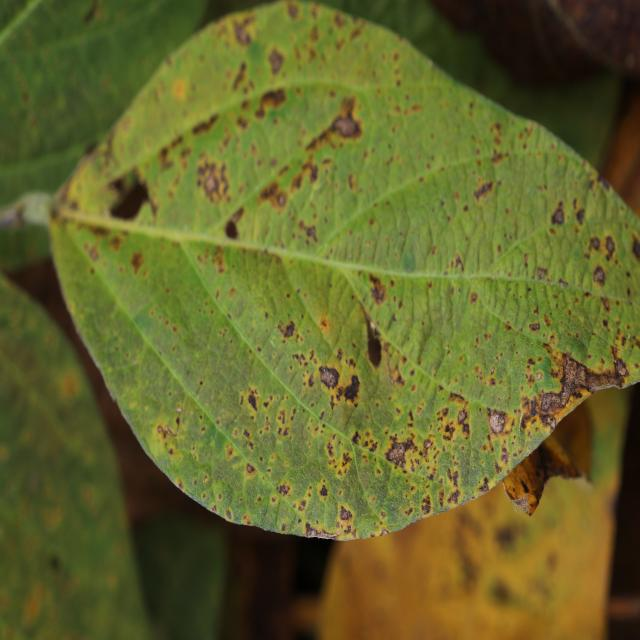Bacterial_Blight: (386, 411, 443, 483), (314, 100, 366, 165), (535, 355, 587, 414), (315, 357, 363, 412), (154, 128, 199, 176), (323, 429, 357, 479), (586, 231, 620, 273), (471, 354, 504, 390), (253, 87, 287, 119), (156, 406, 184, 443), (238, 384, 263, 424), (257, 179, 288, 210), (273, 403, 298, 440), (610, 346, 632, 382), (333, 504, 356, 537), (191, 114, 220, 136), (225, 207, 245, 237), (233, 18, 254, 46), (368, 275, 387, 305), (298, 218, 318, 244), (231, 61, 248, 91), (211, 247, 228, 275), (268, 47, 285, 75), (389, 361, 406, 389), (473, 180, 494, 201), (277, 318, 297, 340), (572, 197, 587, 225), (301, 369, 317, 391), (130, 251, 145, 274), (305, 523, 327, 538), (551, 203, 565, 225), (86, 242, 100, 262), (490, 121, 503, 141), (286, 2, 300, 20), (276, 482, 291, 497), (319, 317, 331, 332), (224, 444, 235, 460), (536, 266, 548, 280), (319, 484, 329, 498), (635, 236, 640, 261), (469, 291, 478, 304), (529, 322, 540, 332), (246, 463, 255, 474)
Soybean: (50, 3, 640, 540)
